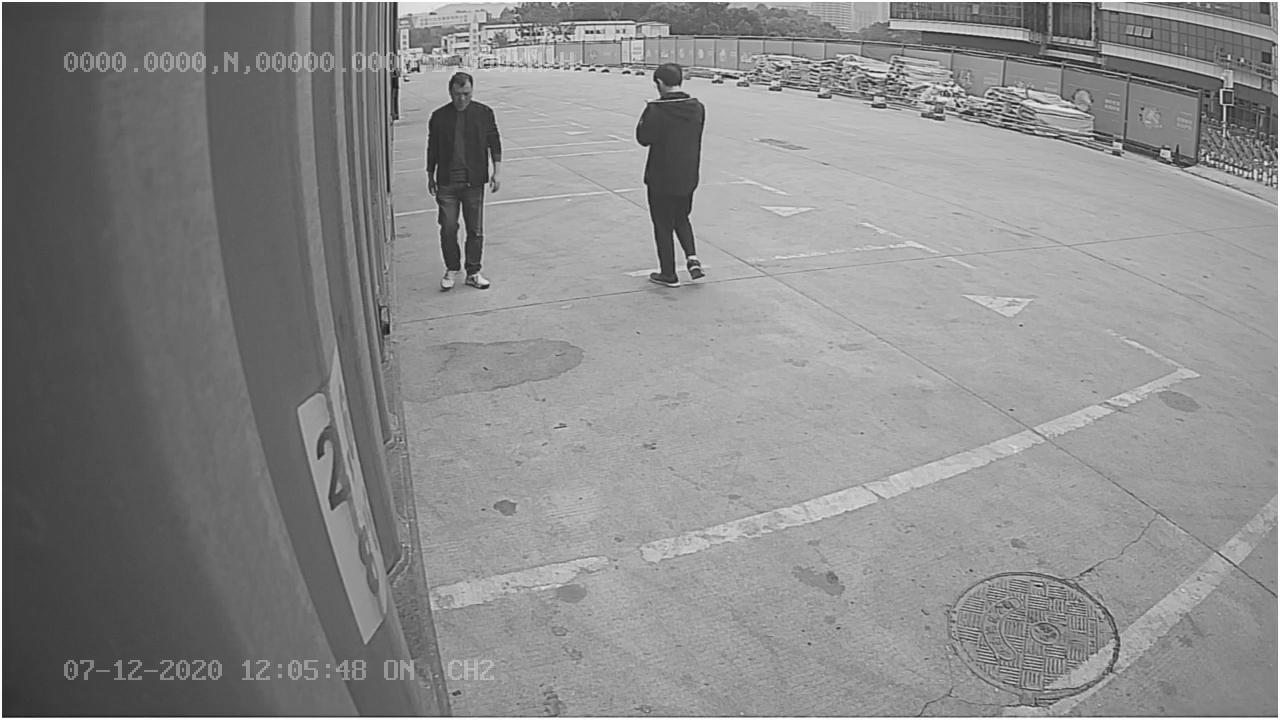person: (633, 63, 716, 290)
